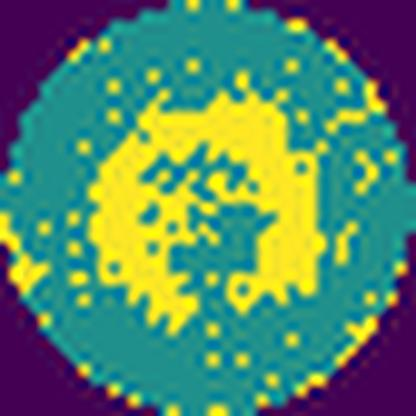Donut: (90, 84, 324, 336)
